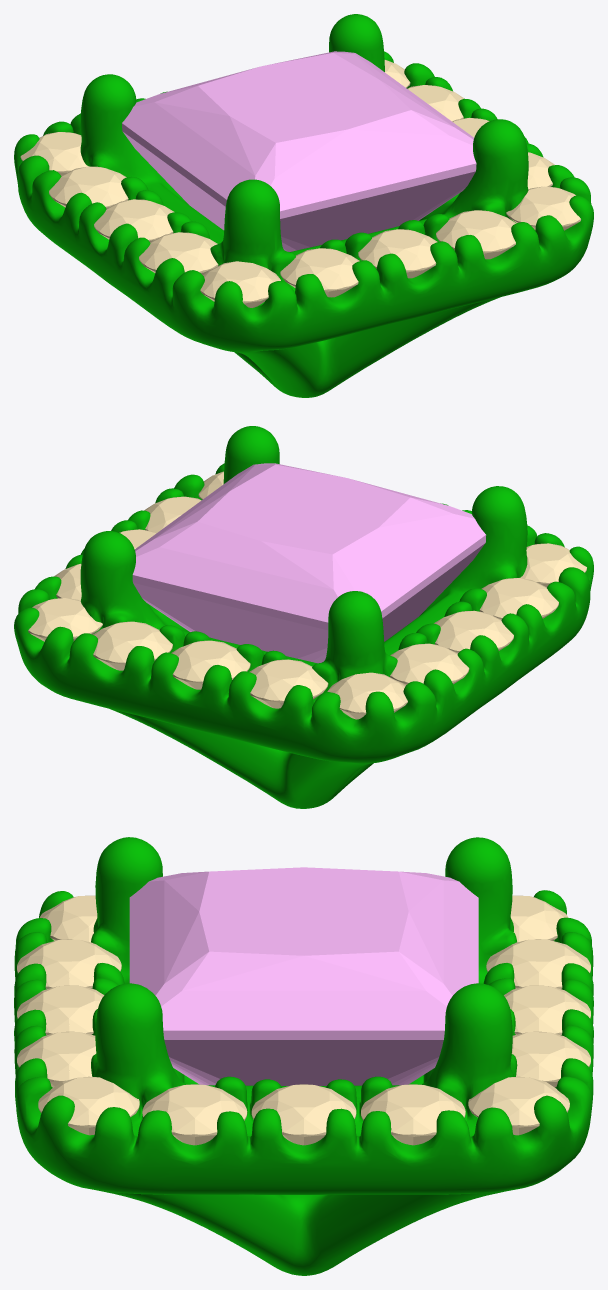
3 renders of one model, top to bottom at view 1: azimuth 30°, elevation 25°; view 2: azimuth 150°, elevation 25°; view 3: azimuth 270°, elevation 25°, orthographic. The views are drawn at different scales.
Parts seen in each view (by area): view 1: Metal01, Diamond_Princess, Diamond_Round.008, Diamond_Round.010, Diamond_Round.009, Diamond_Round.007, Diamond_Round.005, Diamond_Round.006, Diamond_Round.013, Diamond_Round.012, Diamond_Round.014, Diamond_Round.001 (+1 smaller); view 2: Metal01, Diamond_Princess, Diamond_Round.004, Diamond_Round.002, Diamond_Round.003, Diamond_Round.005, Diamond_Round.007, Diamond_Round.006, Diamond_Round.014, Diamond_Round.015, Diamond_Round.013, Diamond_Round.011 (+1 smaller); view 3: Metal01, Diamond_Princess, Diamond_Round.011, Diamond_Round.001, Diamond_Round, Diamond_Round.008, Diamond_Round.004, Diamond_Round.015, Diamond_Round.012, Diamond_Round.009, Diamond_Round.003, Diamond_Round.010 (+3 smaller).
Boxes of the visible parts, x1,y1,x2,y2 form: Metal01: (14,14,593,397); Diamond_Princess: (122,51,476,251); Diamond_Round.008: (280,248,359,297); Diamond_Round.010: (436,210,516,259); Diamond_Round.009: (358,229,437,278); Diamond_Round.007: (139,232,218,274); Diamond_Round.005: (49,166,128,208); Diamond_Round.006: (94,199,174,242); Diamond_Round.013: (200,261,280,307); Diamond_Round.012: (506,186,580,230); Diamond_Round.014: (20,132,88,175); Diamond_Round.001: (407,85,463,121); Metal01: (14,426,593,808); Diamond_Princess: (132,463,486,663); Diamond_Round.004: (249,659,328,708); Diamond_Round.002: (93,621,172,670); Diamond_Round.003: (171,640,250,689); Diamond_Round.005: (390,643,469,685); Diamond_Round.007: (479,578,558,619); Diamond_Round.006: (434,610,513,653); Diamond_Round.014: (327,672,407,719); Diamond_Round.015: (28,598,102,641); Diamond_Round.013: (520,543,586,587); Diamond_Round.011: (144,496,201,532); Metal01: (14,837,593,1275); Diamond_Princess: (129,867,478,1085); Diamond_Round.011: (142,1084,247,1145); Diamond_Round.001: (361,1084,465,1145); Diamond_Round: (251,1084,356,1145); Diamond_Round.008: (17,939,121,988); Diamond_Round.004: (486,939,590,988); Diamond_Round.015: (468,1076,569,1135); Diamond_Round.012: (38,1076,139,1135); Diamond_Round.009: (17,985,104,1035); Diamond_Round.003: (504,985,590,1035); Diamond_Round.010: (17,1031,96,1087).
Size of the model in its own units: 9.14 by 6.22 by 9.14.
